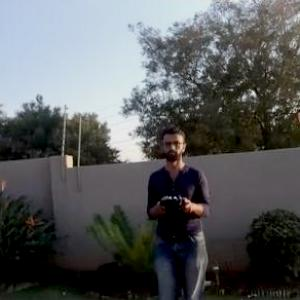follow: (143, 121, 216, 299)
